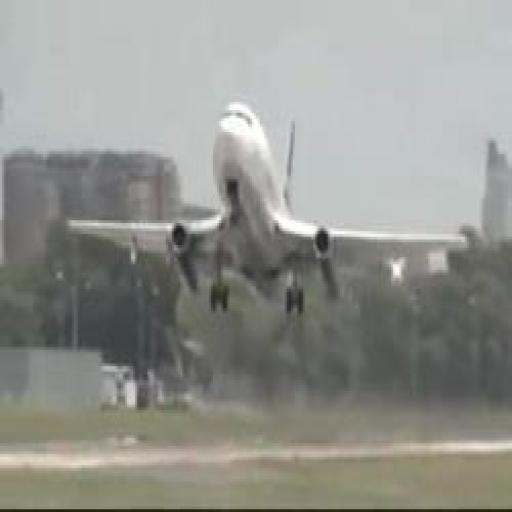aircraft: (70, 104, 469, 316)
